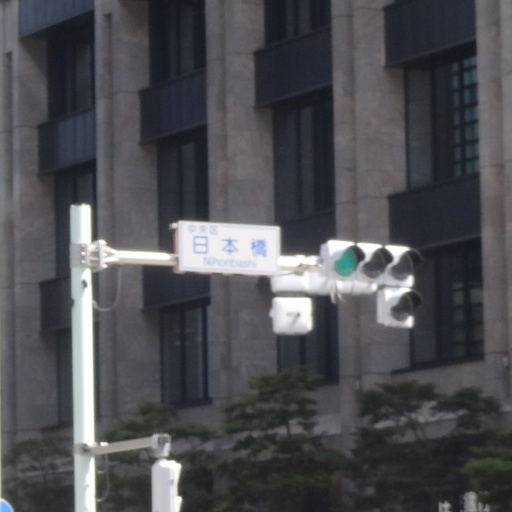Traffic_Signal_Blue: (323, 240, 419, 285)
